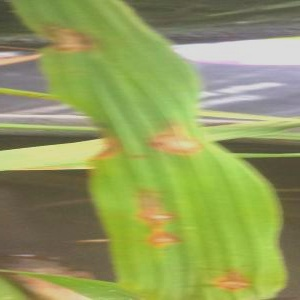Brown_Spot: (34, 15, 104, 69), (148, 109, 205, 166), (134, 177, 183, 227), (208, 259, 256, 300), (136, 228, 189, 262)
